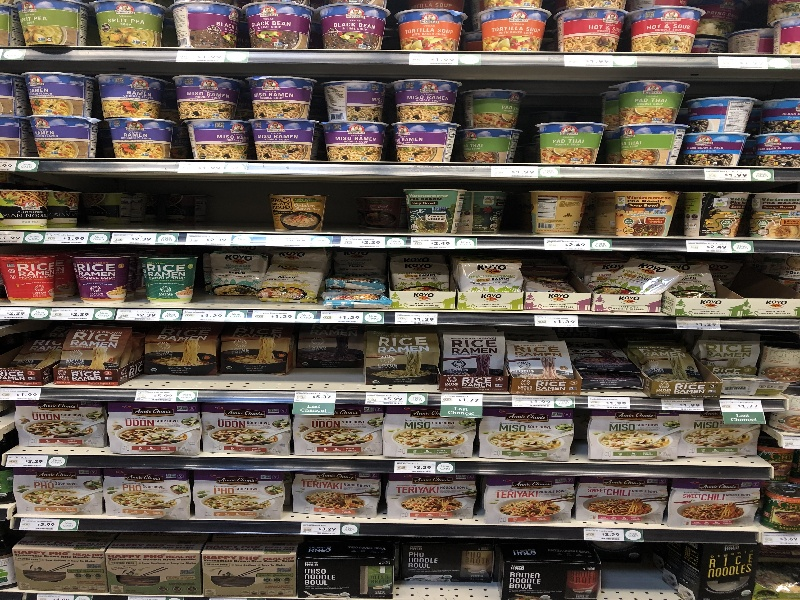void: (71, 179, 274, 229), (603, 536, 684, 598), (321, 183, 409, 232), (298, 329, 368, 382)
